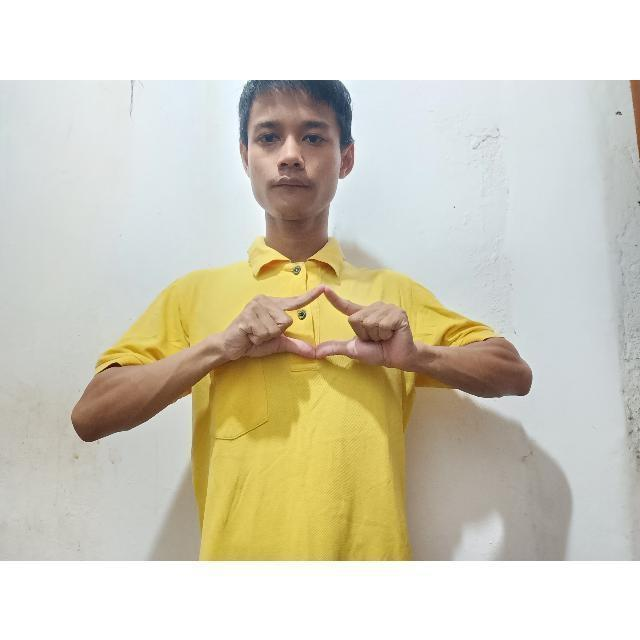A: (222, 276, 422, 379)
